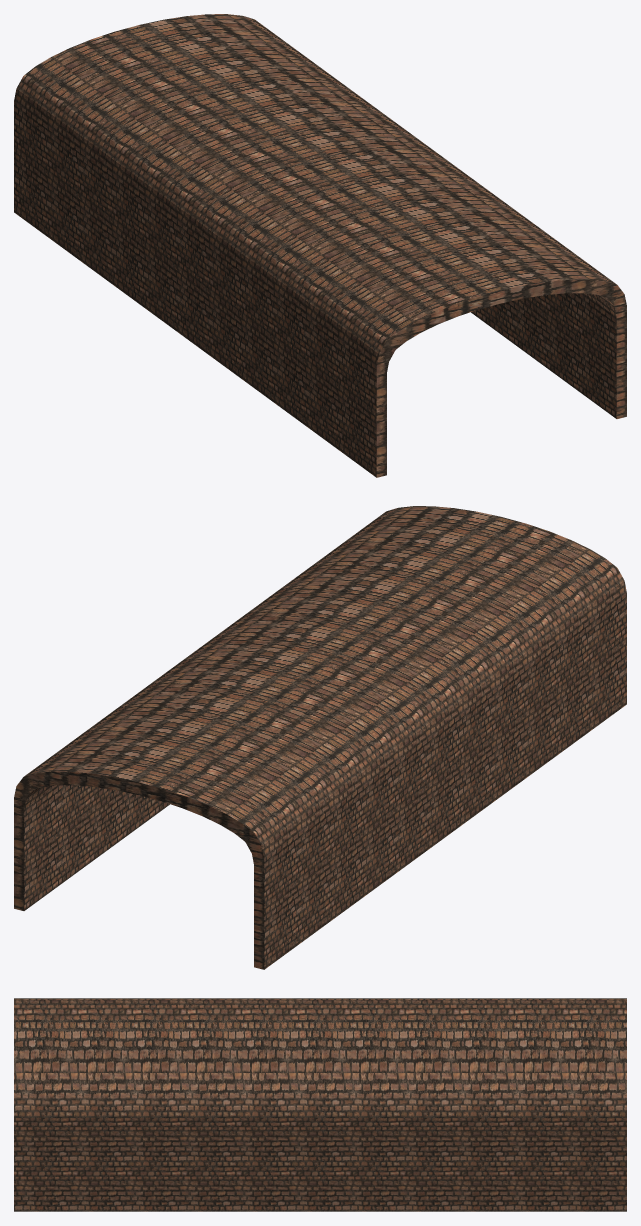
The model's file is Terowongan (1).fbx.
3 views of the same model, one above another, from view 1: azimuth 30°, elevation 25°; view 2: azimuth 150°, elevation 25°; view 3: azimuth 270°, elevation 25° (orthographic). The views are drawn at different scales.
Visible parts, largest first — view 1: Circle; view 2: Circle; view 3: Circle.
Boxes of the visible parts, left/top/right/bottom form: Circle: left=14, top=14, right=626, bottom=477; Circle: left=14, top=506, right=626, bottom=969; Circle: left=14, top=998, right=626, bottom=1211.
Bounding box in the file's own units: 714 × 428 × 1792.
1 material, 1 textured.
